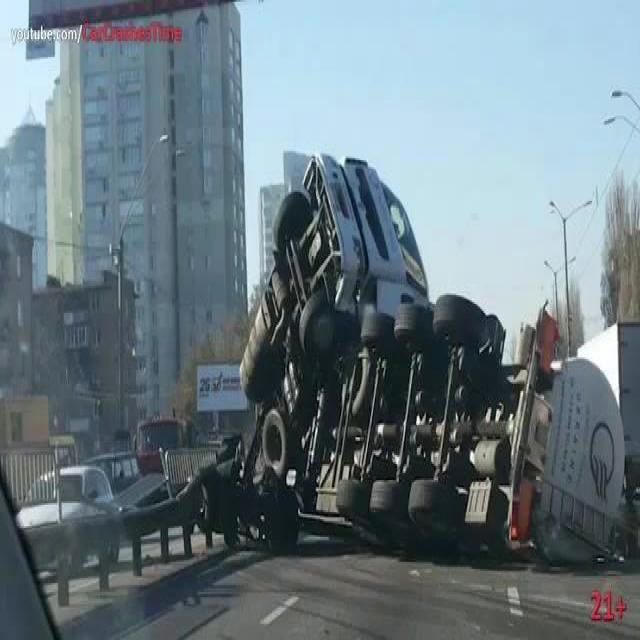severe: (212, 137, 628, 578)
